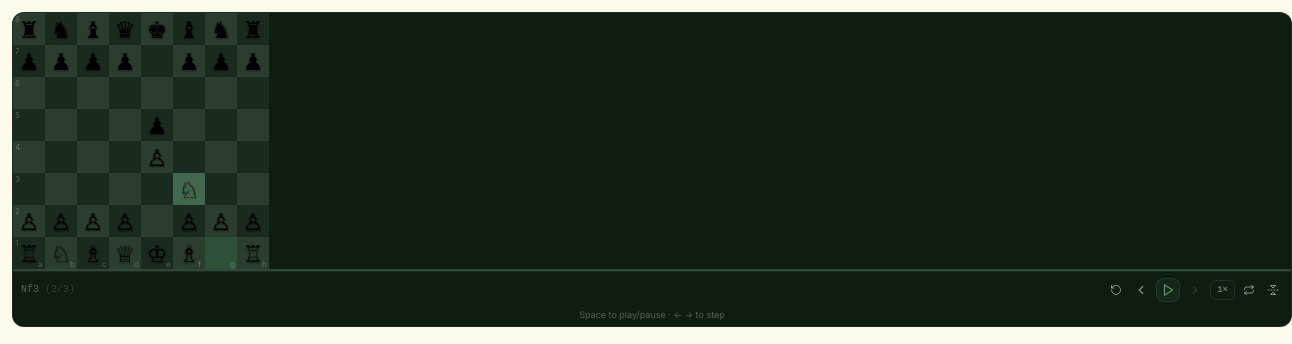
Test case: MiniChessBoard — navigation › clicking Previous enables Next button
Click the button named "Previous move" at (1141, 290), box [1130,279,1152,301]
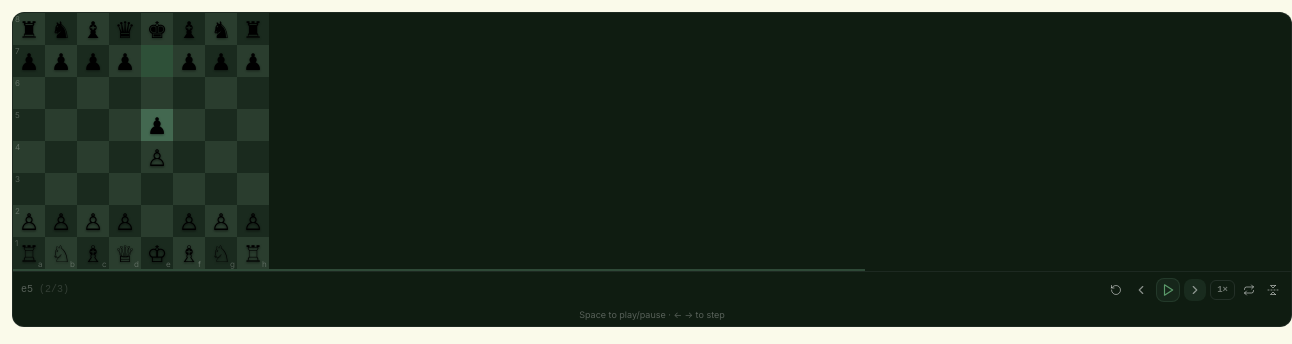
Result: the button named "Next move" is enabled at [1184,279,1206,301]
